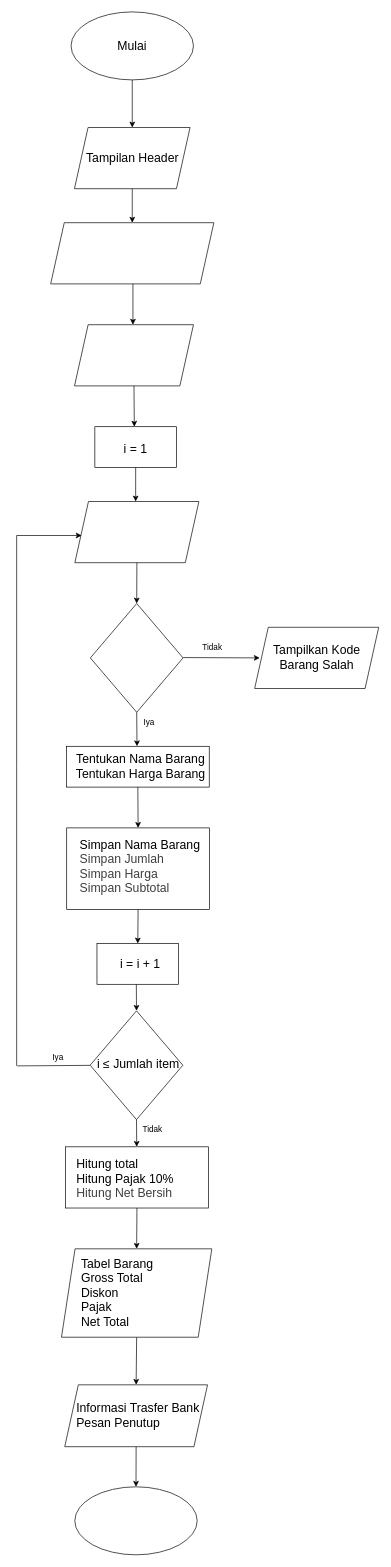
The diagram is 391 pixels wide and 1567 high, and some of its shapes have lost their labels. Each missing label, with the centre of its shape:
"END" goes at pixel 135 1520.
"Input Jumlah Item" goes at pixel 133 355.
"Input Kode Barang Input jumlah" goes at pixel 136 532.
"Kode = A1,B1,C1,D1?" goes at pixel 136 657.
"kode,nama barang,Harga" goes at pixel 132 253.
